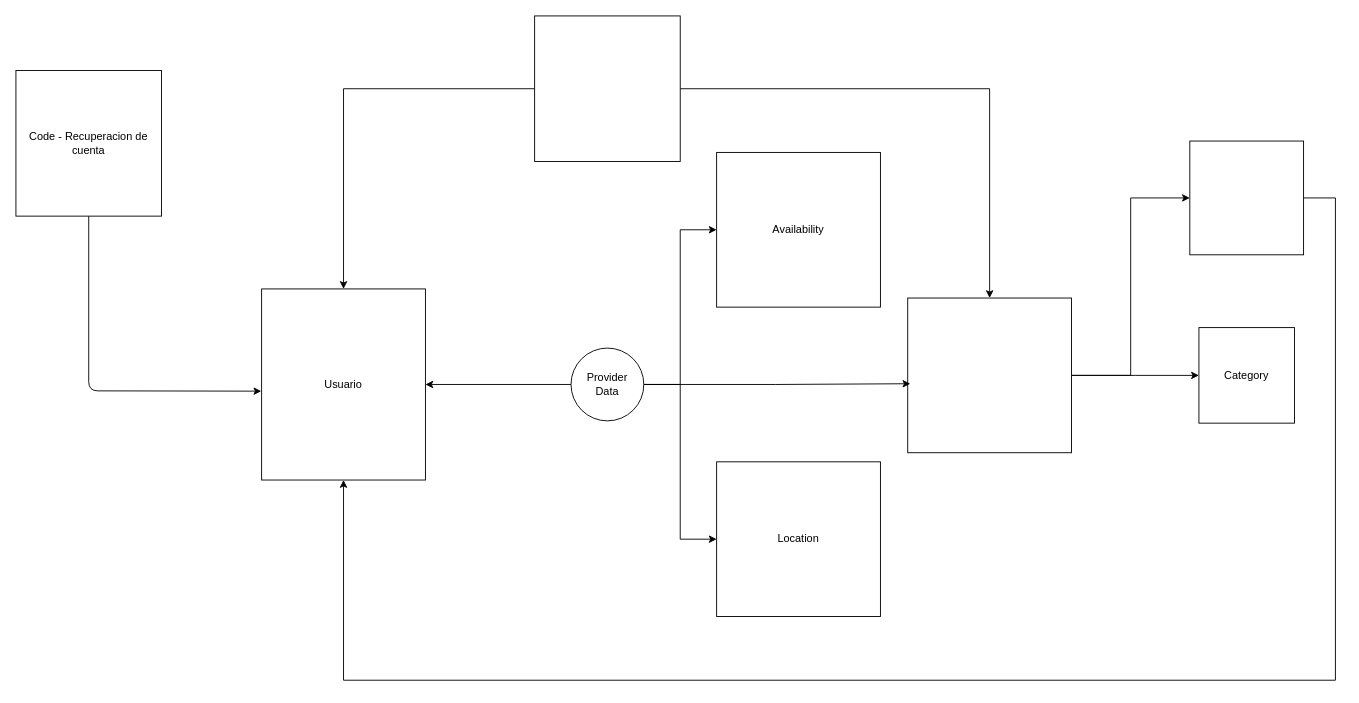
This 1359x703 diagram has some shape labels left out. Each missing label, with the centre of its shape:
"Booking" belongs at point 607,88.
"Reviews" belongs at point 1246,197.
"Services" belongs at point 989,375.
